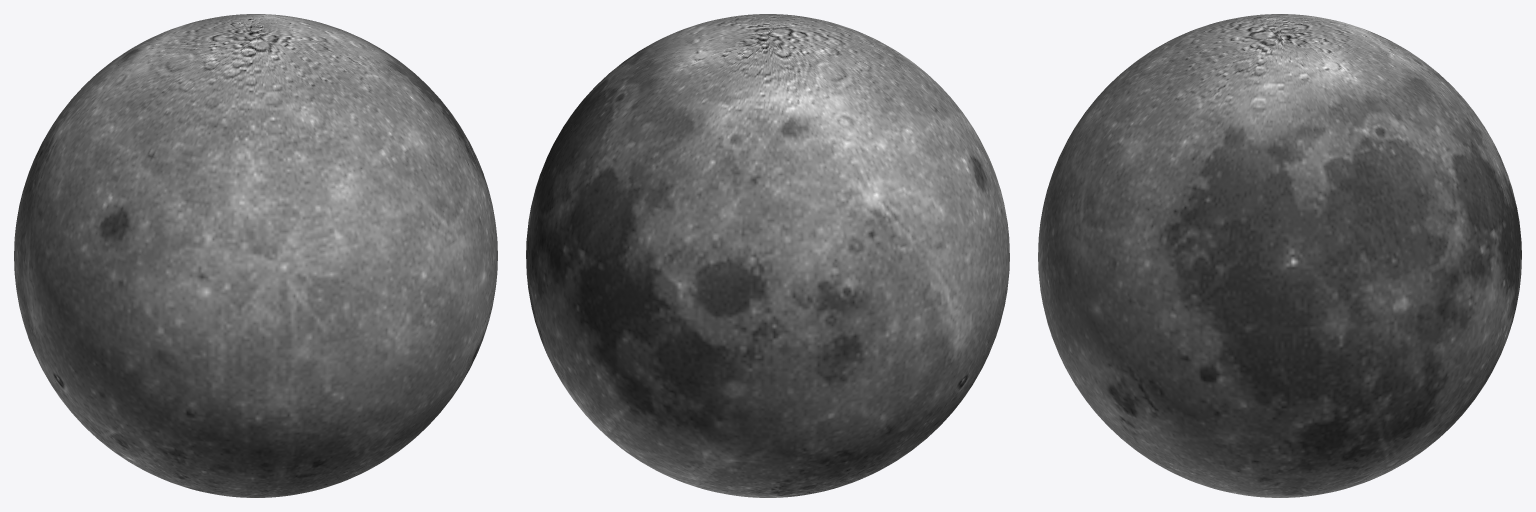
The model's file is moon1.FBX.
3 views of the same model, side by side, from view 1: azimuth 30°, elevation 25°; view 2: azimuth 150°, elevation 25°; view 3: azimuth 270°, elevation 25° (orthographic).
Visible parts, largest first — view 1: Atmosphere; view 2: Atmosphere; view 3: Atmosphere.
Boxes of the visible parts, x1,y1,x2,y2 form: Atmosphere: [14, 14, 497, 497]; Atmosphere: [526, 14, 1009, 497]; Atmosphere: [1038, 14, 1521, 497].
Bounding box in the file's own units: 148 × 148 × 148.
1 material, 1 textured.
